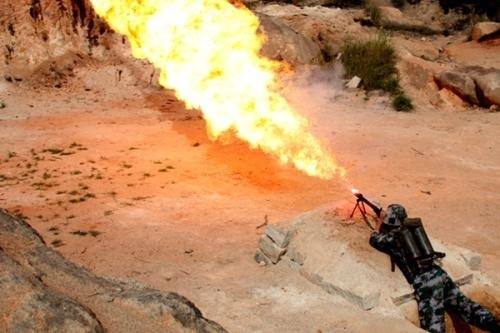fire: (78, 0, 341, 173)
